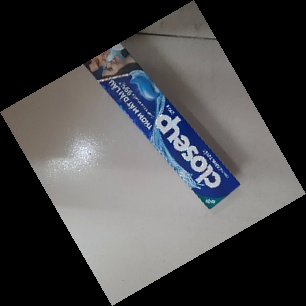CloseUp Tuyet: (76, 32, 241, 211)
